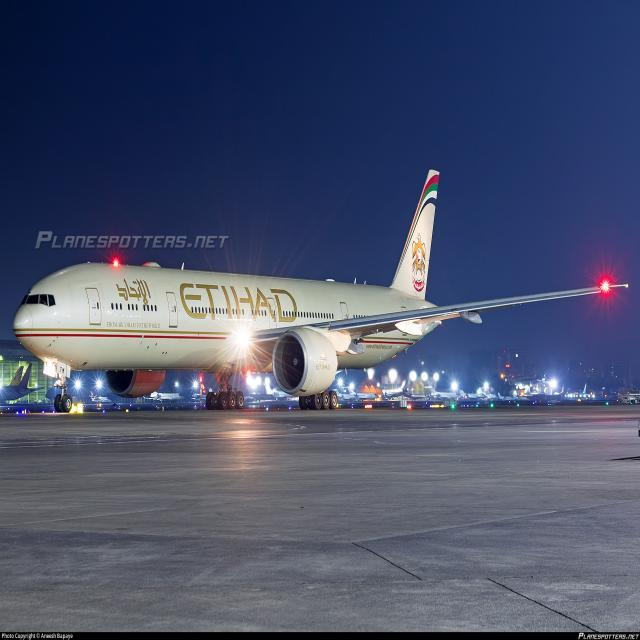Etihad Airways: (116, 277, 298, 323)
